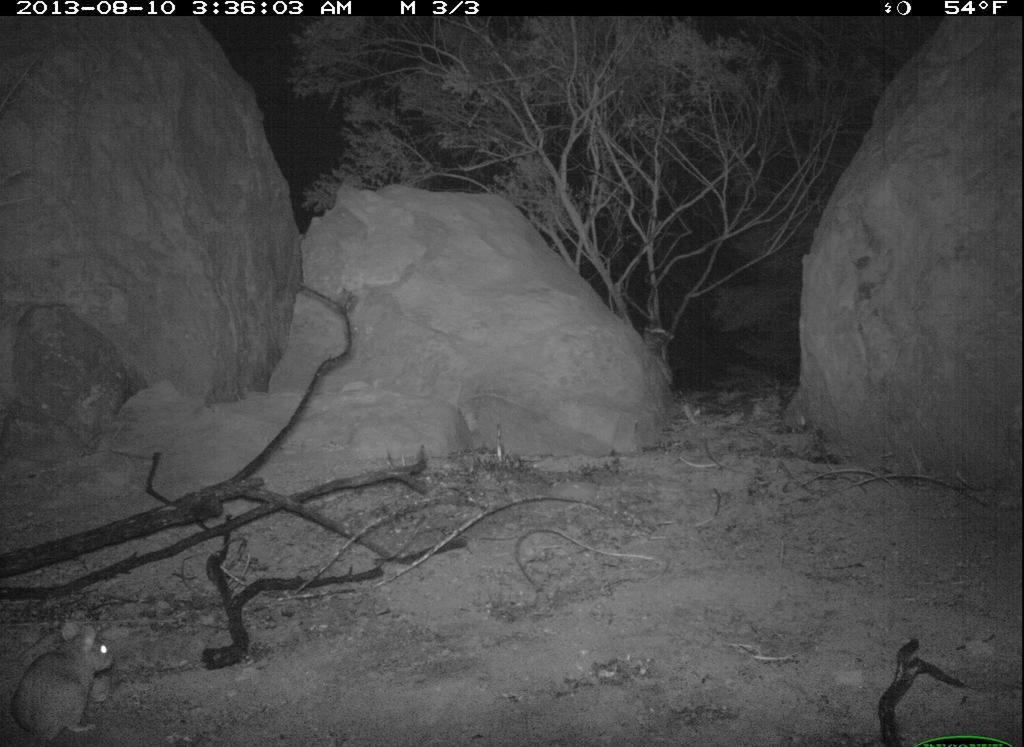rodent: (2, 616, 129, 747)
